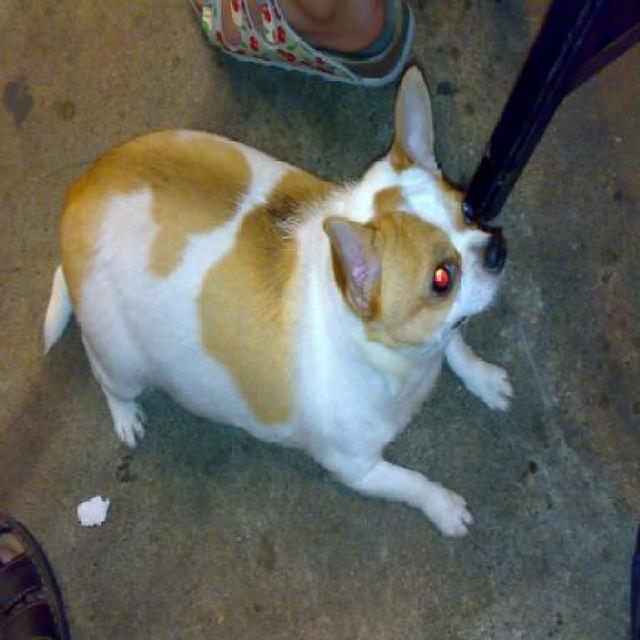Dog: (43, 65, 514, 548)
